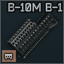AK Zenit B-10M handguard with B-19 upper handguard mount: (0, 0, 64, 64)
